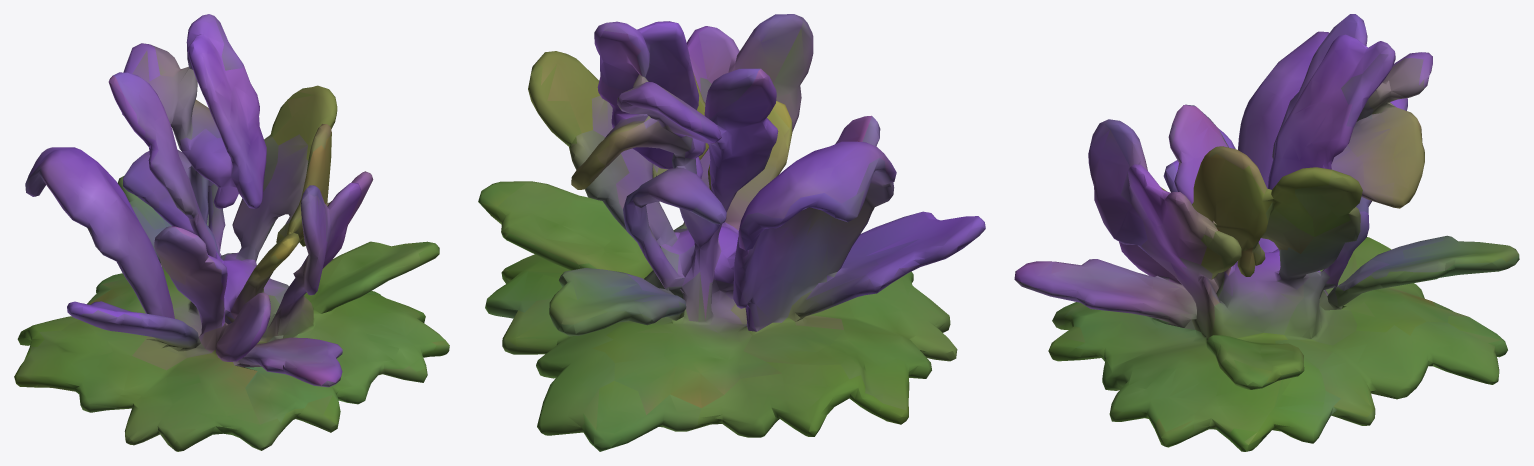
File: planta_violeta.glb
3 views of the same model, side by side, from view 1: azimuth 30°, elevation 25°; view 2: azimuth 150°, elevation 25°; view 3: azimuth 270°, elevation 25° (orthographic). The views are drawn at different scales.
Parts seen in each view (by area): view 1: planta_violeta_malla; view 2: planta_violeta_malla; view 3: planta_violeta_malla.
Boxes of the visible parts, x1,y1,x2,y2 form: planta_violeta_malla: [14, 14, 449, 451]; planta_violeta_malla: [478, 14, 985, 451]; planta_violeta_malla: [1014, 14, 1519, 451].
Bounding box in the file's own units: 0.1183 × 0.0897 × 0.1202.
Materials: 1 (1 with a texture image).
